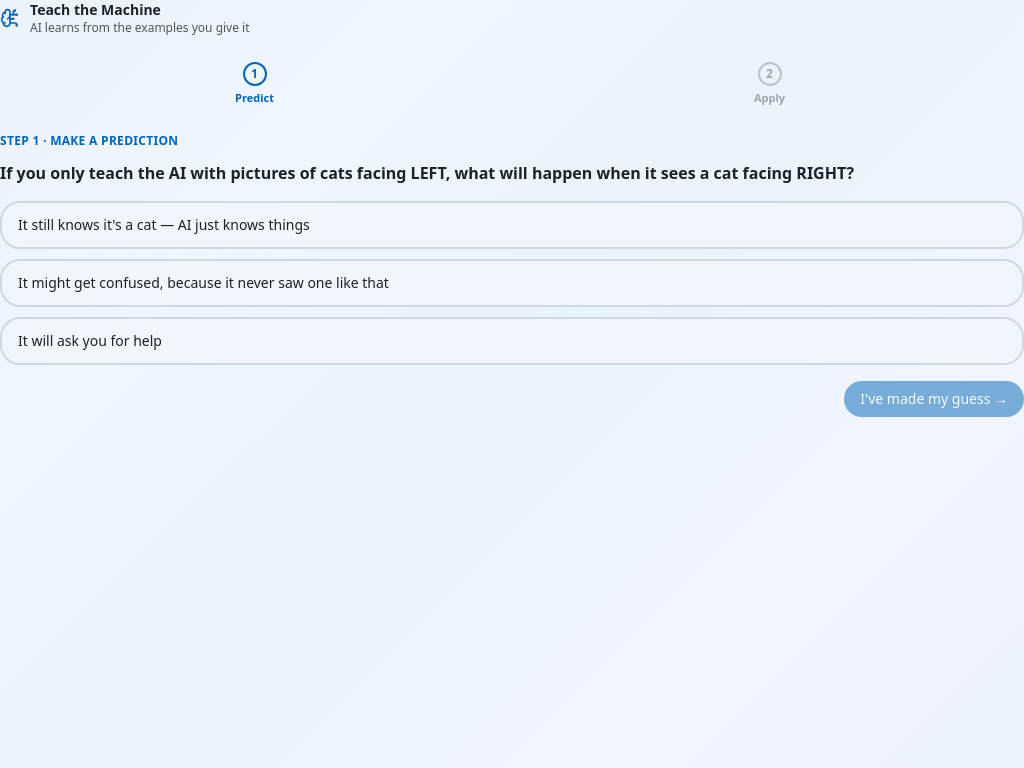
Test: ConceptLabHost cohorts › baseline arm skips Play/Explain: Predict → Apply → done, and persists
Click the button "It might get confused, because it never saw one like that" at (203, 282), box top-left (0, 258), bottom-right (1023, 306)
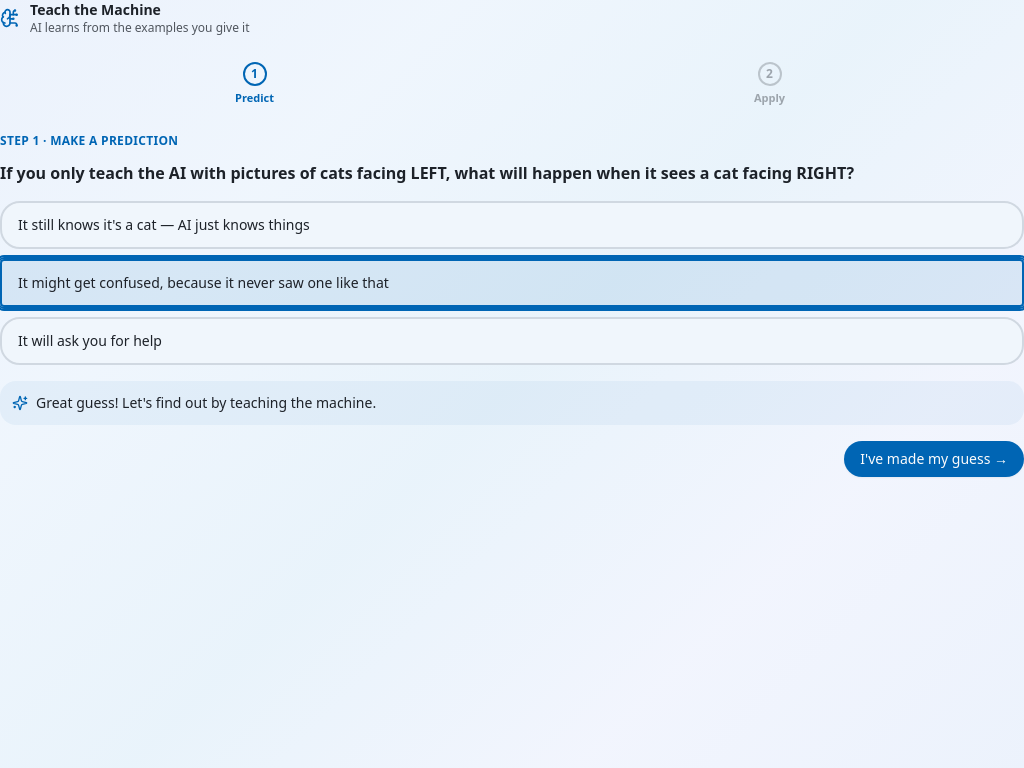
Click the button "I've made my guess →" at (934, 458), box top-left (844, 440), bottom-right (1023, 476)
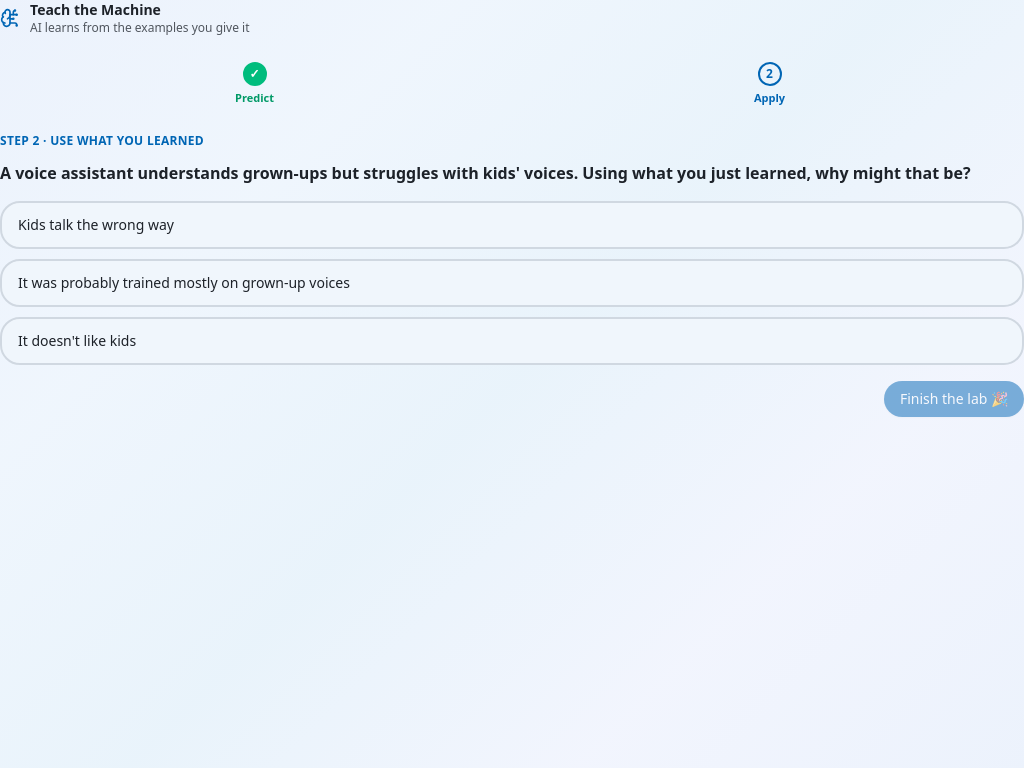
Now the text "Step 2 · Use what you learned" is shown, box top-left (0, 132), bottom-right (204, 148)
Click the button "It was probably trained mostly on grown-up voices" at (184, 282), box top-left (0, 258), bottom-right (1023, 306)
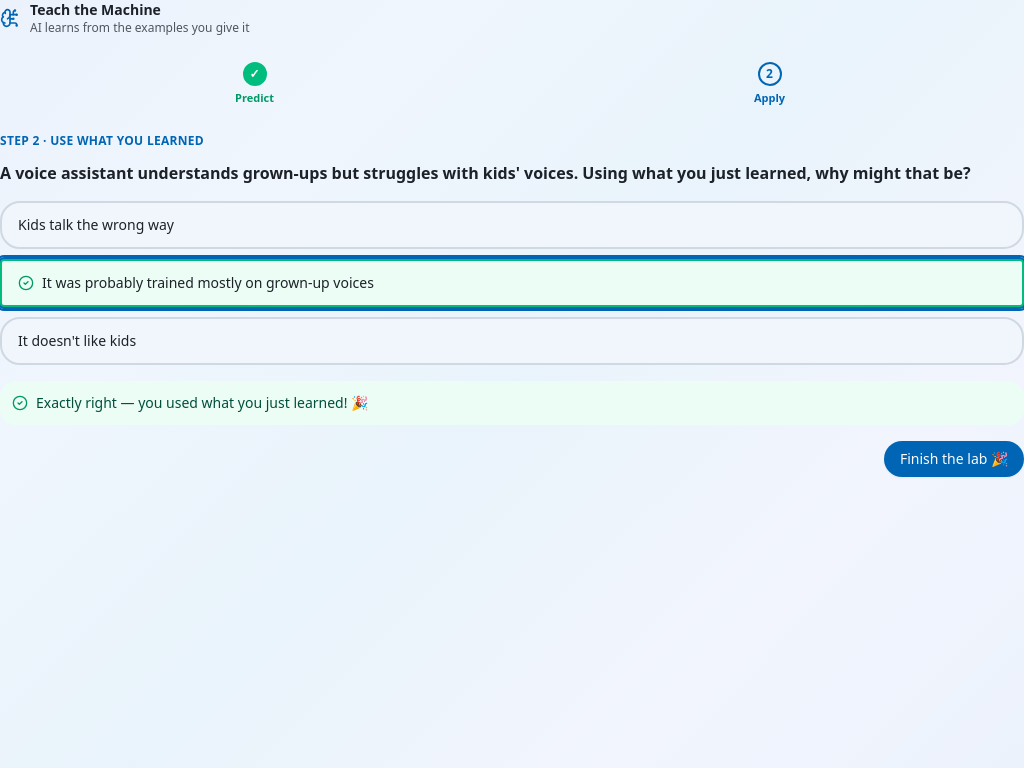
Click the button "Finish the lab 🎉" at (954, 458), box top-left (884, 440), bottom-right (1023, 476)
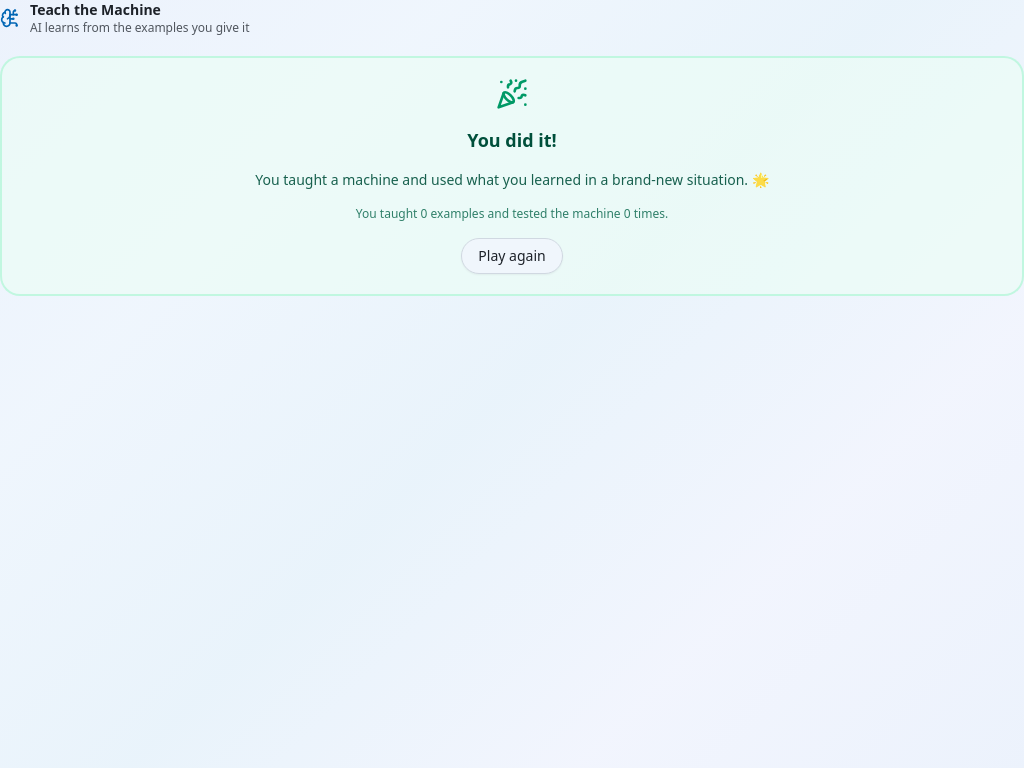
Now the heading "You did it!" is shown, box top-left (467, 128), bottom-right (557, 152)
